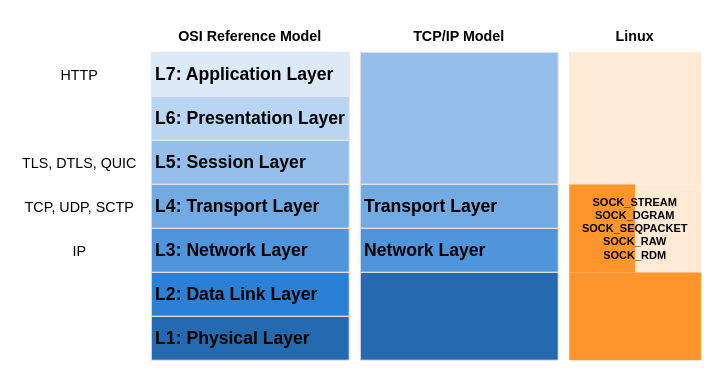
This 719x380 diagram has some shape labels left out. Here are the shapes that lost their labels. From the top down, the centre of each, then its label:
At point 458,117: "Application Layer".
At point 635,118: "User Space".
At point 458,315: "Network Access Layer".
At point 635,316: "Kernel Space".
